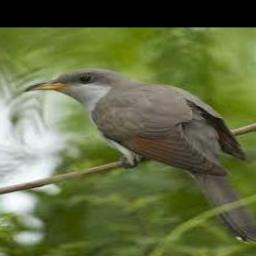Cuckoo: (25, 68, 256, 241)
